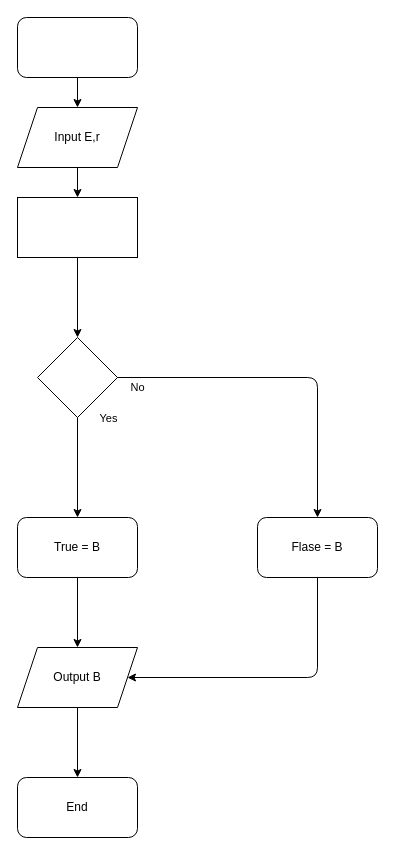
This 395x855 diagram has some shape labels left out. Here are the shapes that lost their labels. From the top down, the centre of each, then its label:
At [77,47]: "Start".
At [77,227]: "A1=E*E A2=3,14*r*r".
At [77,377]: "A1>=A2".
